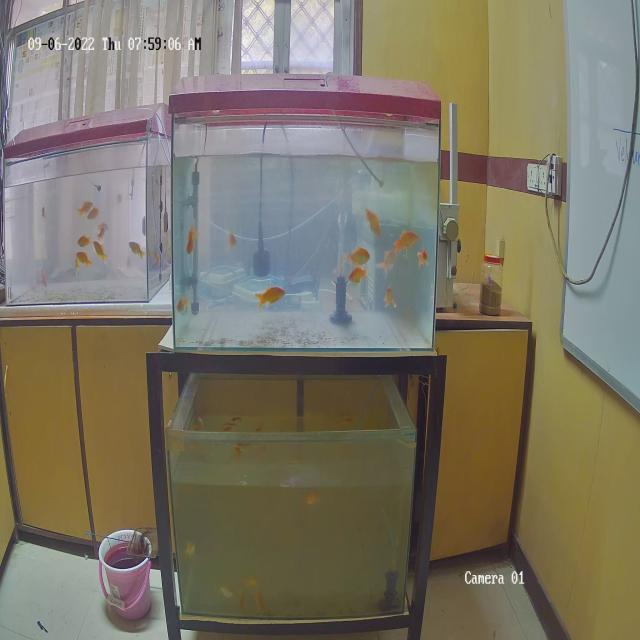goldfish: (377, 242, 405, 277), (364, 205, 388, 238), (175, 228, 198, 257), (262, 282, 284, 311), (126, 237, 146, 266), (387, 283, 404, 316), (225, 230, 243, 255), (347, 246, 368, 266), (344, 271, 374, 285), (71, 197, 95, 213), (397, 230, 415, 251), (92, 240, 108, 262), (73, 234, 92, 250), (417, 247, 430, 270), (74, 250, 92, 266), (176, 293, 188, 316), (87, 207, 99, 221)
